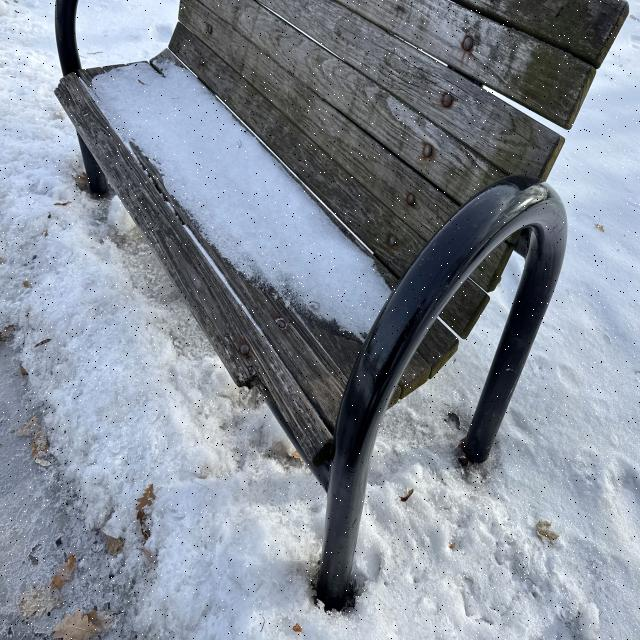Bench: (53, 0, 624, 576)
